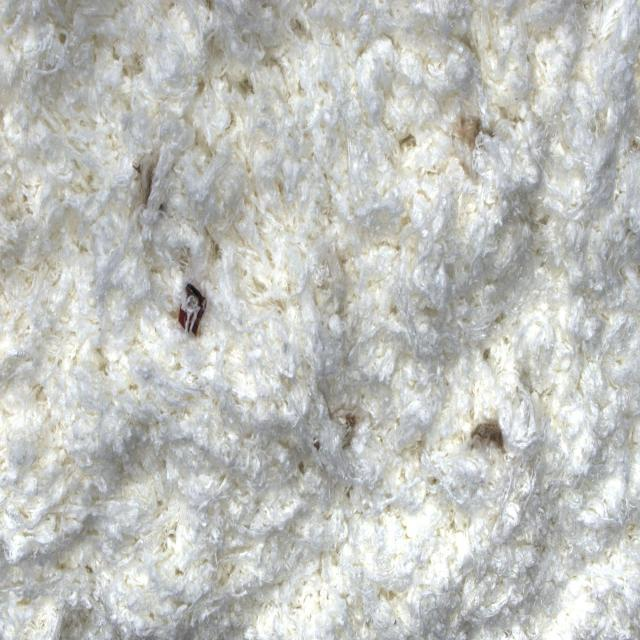dust: (461, 387, 515, 481), (171, 273, 209, 346), (308, 426, 325, 462)
